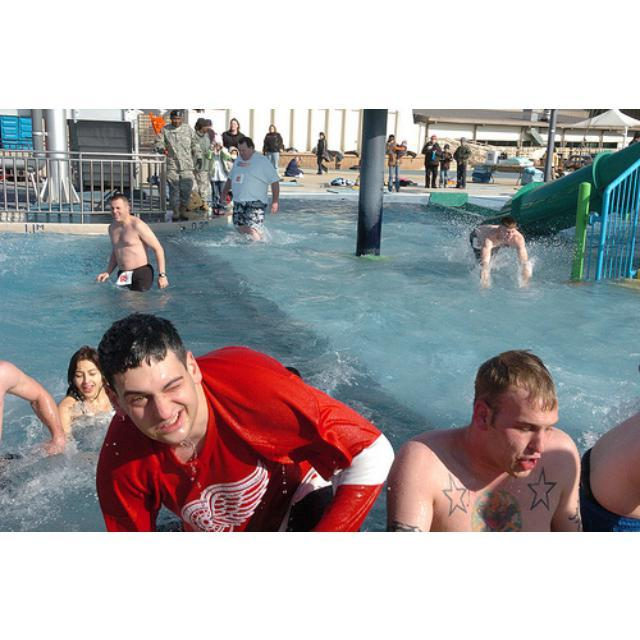human: (94, 315, 382, 531), (380, 349, 586, 532), (99, 194, 171, 298), (54, 341, 107, 435), (227, 141, 279, 235), (471, 214, 529, 284)
